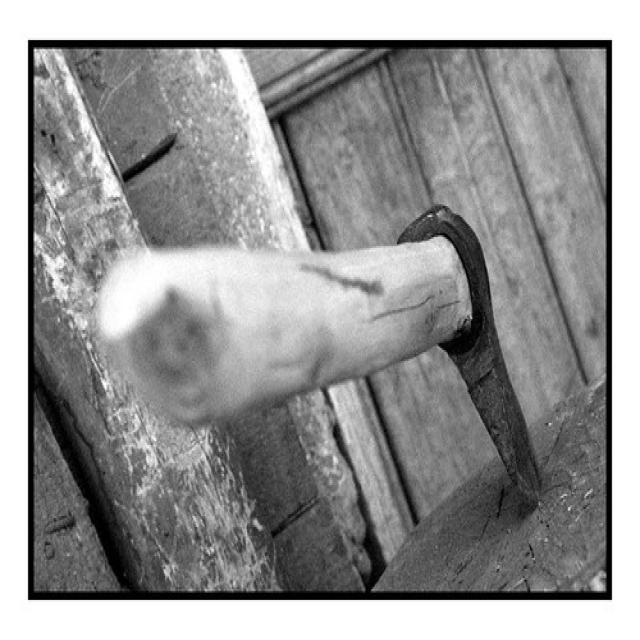Axe: (95, 205, 540, 507)
